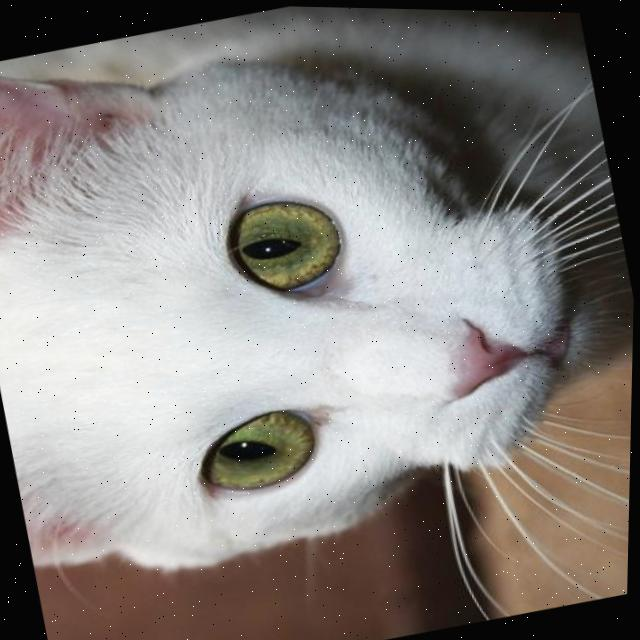Khao Manee: (0, 0, 640, 615)
